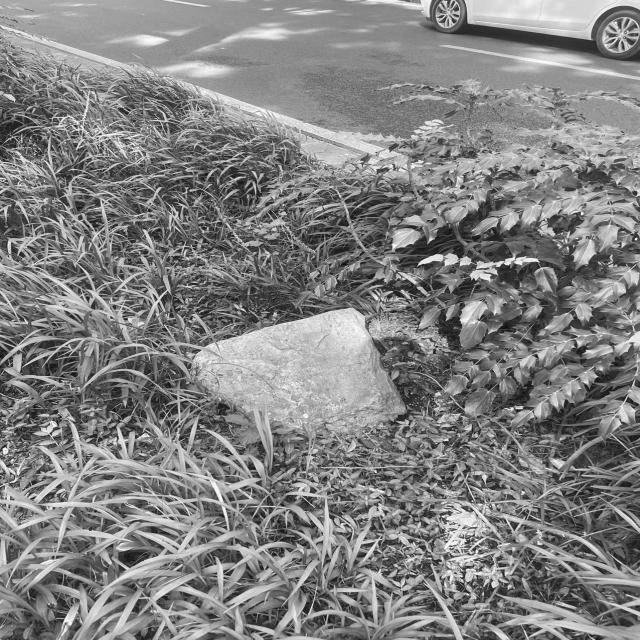Stone: (192, 308, 406, 434)
